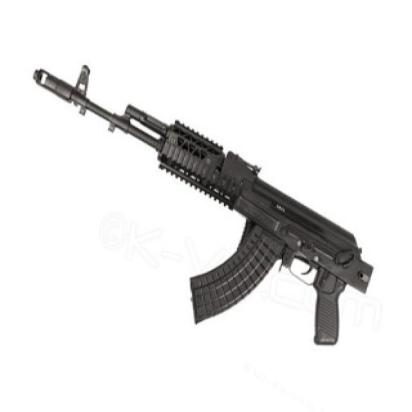Gun: (20, 54, 378, 345)
